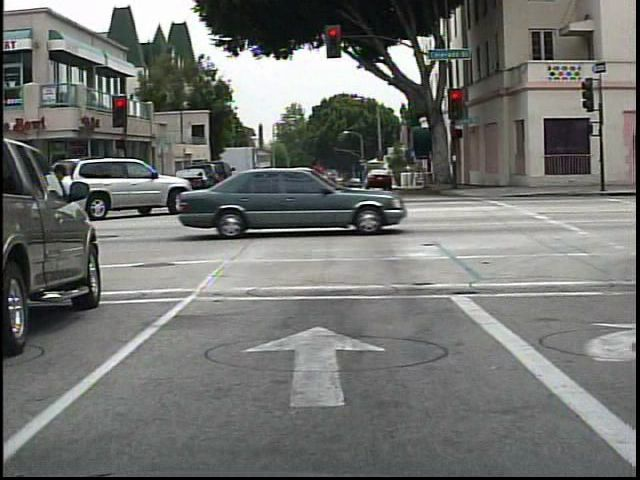person: (305, 159, 334, 204)
